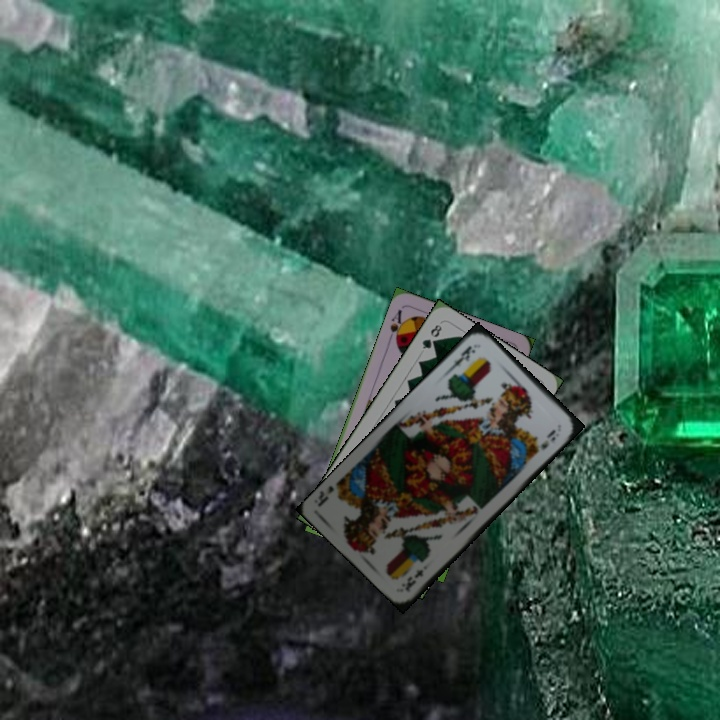EK: (445, 342, 478, 373), (401, 565, 426, 595)
G8: (418, 320, 444, 352)
SA: (384, 305, 408, 346)
